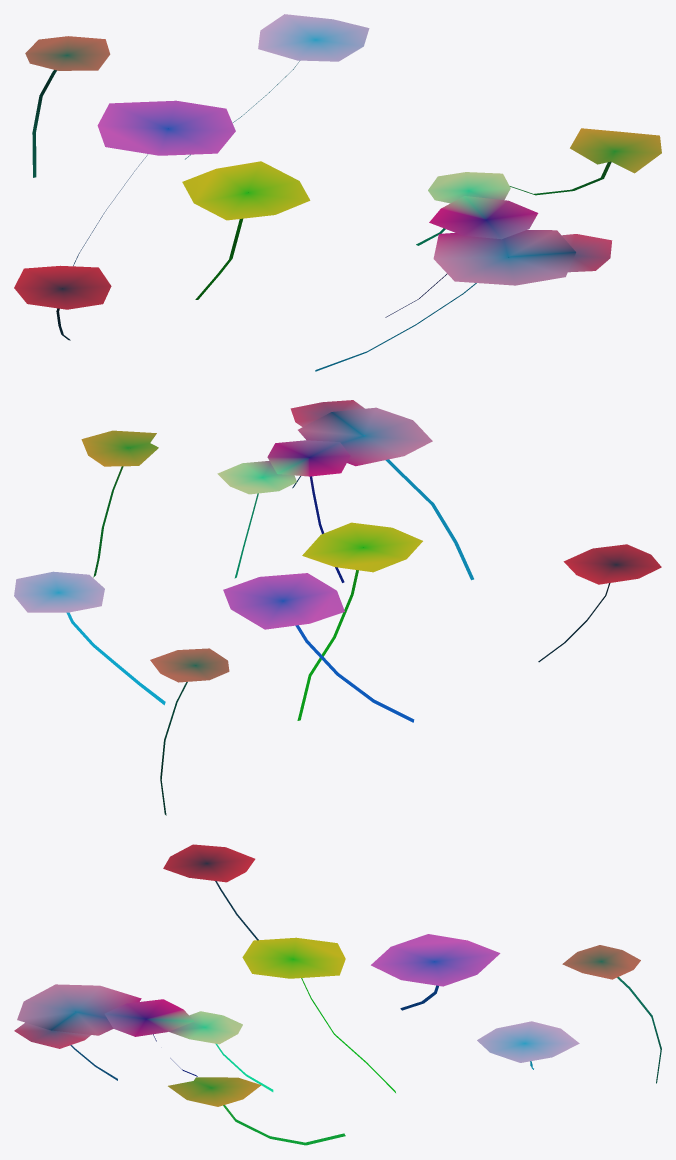
The model's file is Rembrandt_Water_Lily_uc2kajgia_High_uc2kajgia_VarA_LOD1.fbx.
3 views of the same model, one above another, from view 1: azimuth 30°, elevation 25°; view 2: azimuth 150°, elevation 25°; view 3: azimuth 270°, elevation 25° (orthographic). The views are drawn at different scales.
Parts seen in each view (by area): view 1: _df55_VarA_LOD2; view 2: _df55_VarA_LOD2; view 3: _df55_VarA_LOD2.
Part boxes in pixels (x1,y1,x2,y2): _df55_VarA_LOD2: (14,14,661,371); _df55_VarA_LOD2: (14,400,661,815); _df55_VarA_LOD2: (14,844,661,1145).
Bounding box in the file's own units: 121 × 28.32 × 126.
